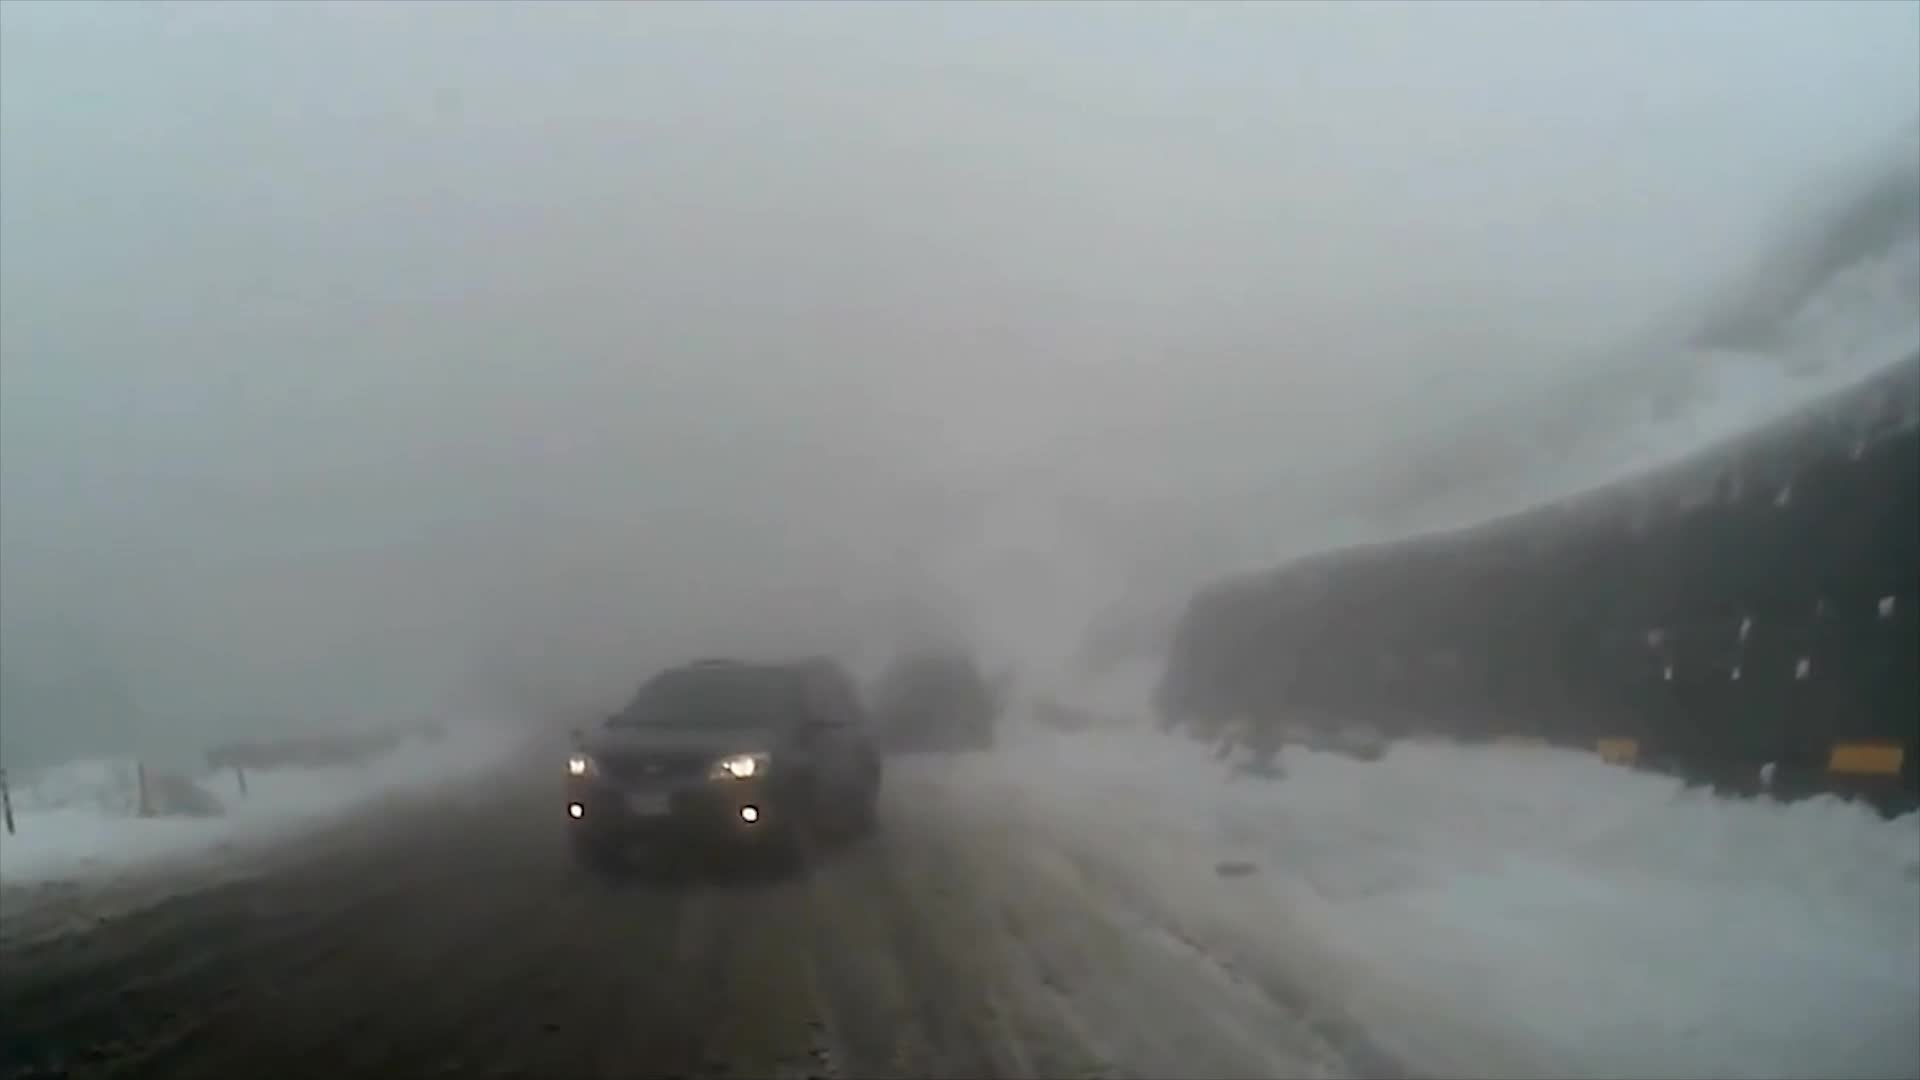vehicle: (560, 654, 881, 884)
